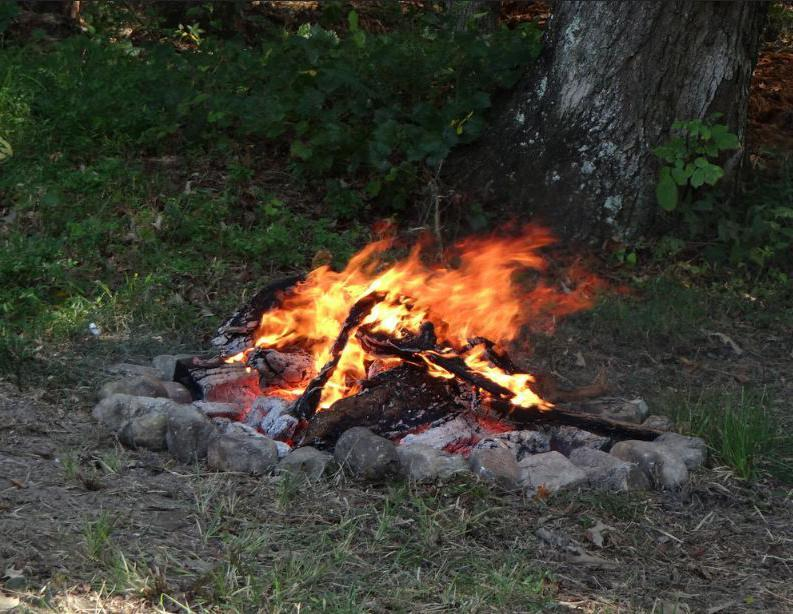Fire: (241, 222, 634, 419)
